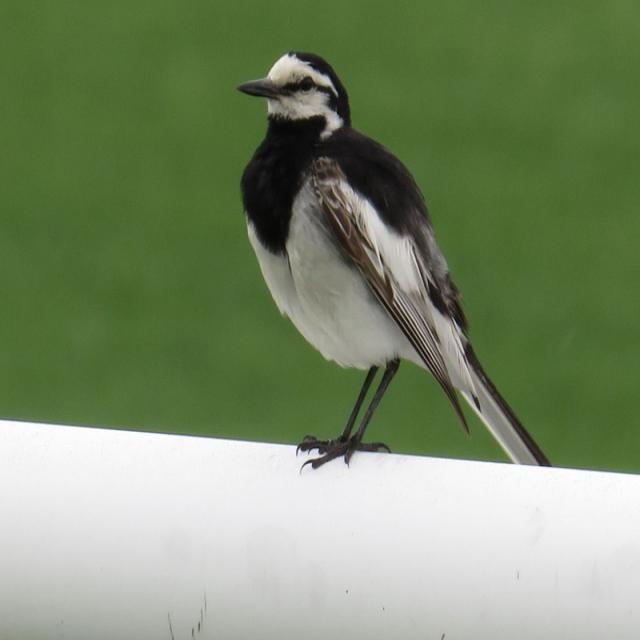bird: (221, 40, 556, 481)
